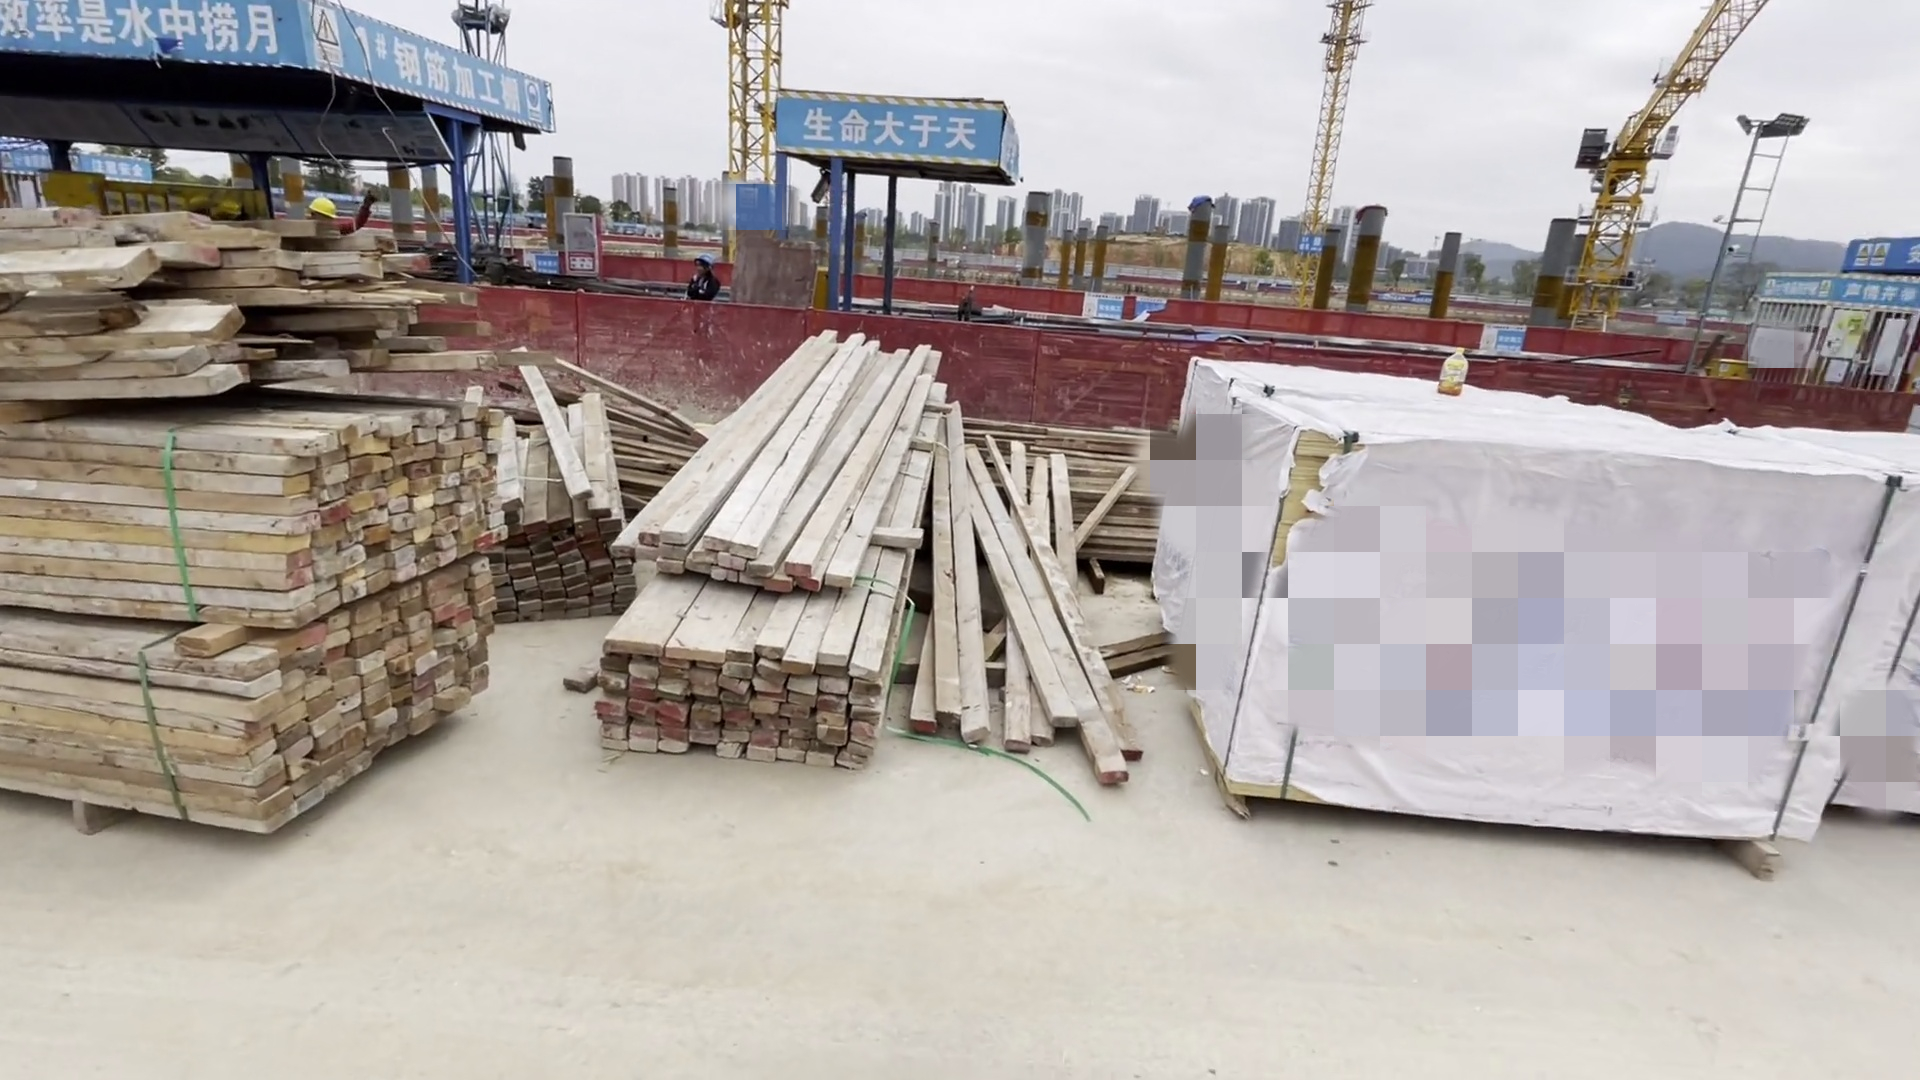slogan: (3, 7, 535, 113), (767, 90, 984, 175)
wood: (1, 207, 497, 847), (504, 353, 1171, 818)
